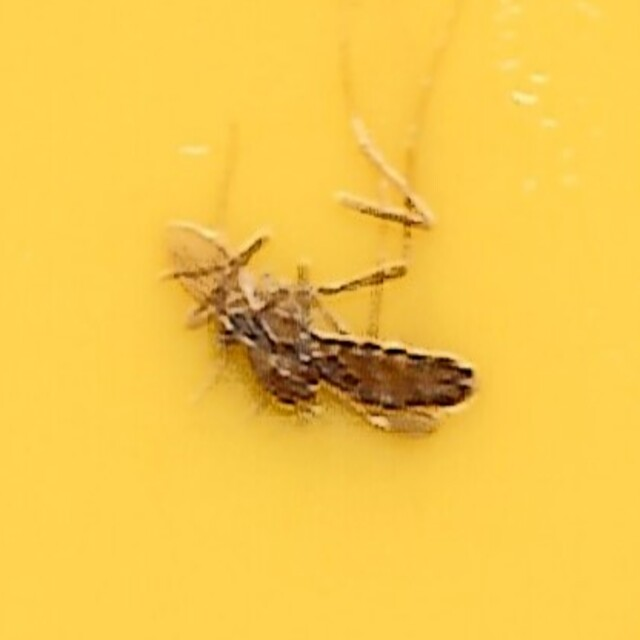Nematocera: (154, 209, 486, 431)
